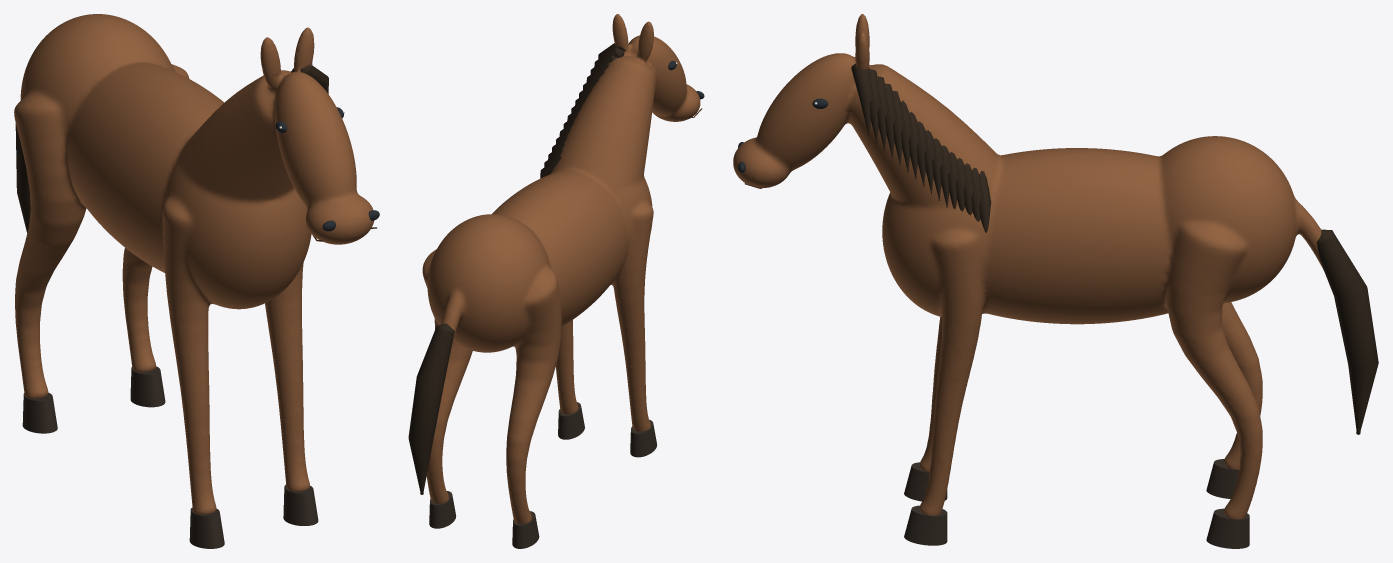
Rendered from horse-anatomy-v1.glb.
3 renders of one model, left to right at view 1: azimuth 30°, elevation 25°; view 2: azimuth 150°, elevation 25°; view 3: azimuth 270°, elevation 25°, orthographic. The views are drawn at different scales.
Parts seen in each view (by area): view 1: Horse continuous body, Hoof.001, Hoof.003, Hoof, Hoof.002, Tail hair; view 2: Horse continuous body, Tail hair, Hoof, Hoof.002, Hoof.003, Hoof.001; view 3: Horse continuous body, Tail hair, Hoof.002, Hoof.003, Hoof.001, Mane lock.
Boxes of the visible parts, box(x1,y1,x2,y2) form: Horse continuous body: box(14, 14, 373, 514); Hoof.001: box(22, 392, 57, 433); Hoof.003: box(130, 366, 165, 407); Hoof: box(189, 507, 224, 548); Hoof.002: box(283, 485, 318, 525); Tail hair: box(15, 123, 30, 232); Horse continuous body: box(422, 14, 700, 524); Tail hair: box(408, 323, 454, 494); Hoof: box(630, 420, 656, 457); Hoof.002: box(558, 402, 584, 439); Hoof.003: box(429, 491, 455, 528); Hoof.001: box(512, 511, 539, 548); Horse continuous body: box(733, 14, 1323, 519); Tail hair: box(1316, 229, 1378, 434); Hoof.002: box(904, 505, 947, 545); Hoof.003: box(1206, 508, 1249, 548); Hoof.001: box(1206, 459, 1239, 498); Mane lock: box(851, 63, 873, 136).
Size of the model in its own units: 0.7063 by 2.14 by 2.53.
